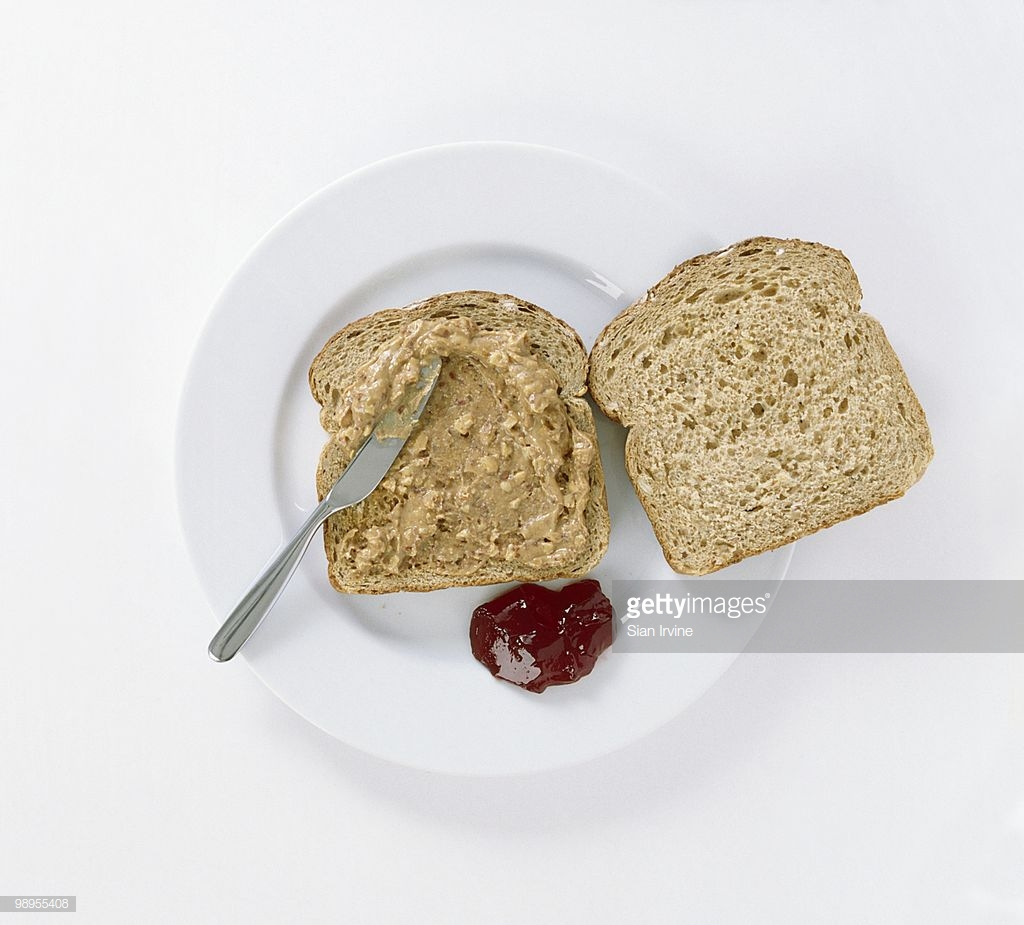slice of bread: (586, 267, 919, 572)
